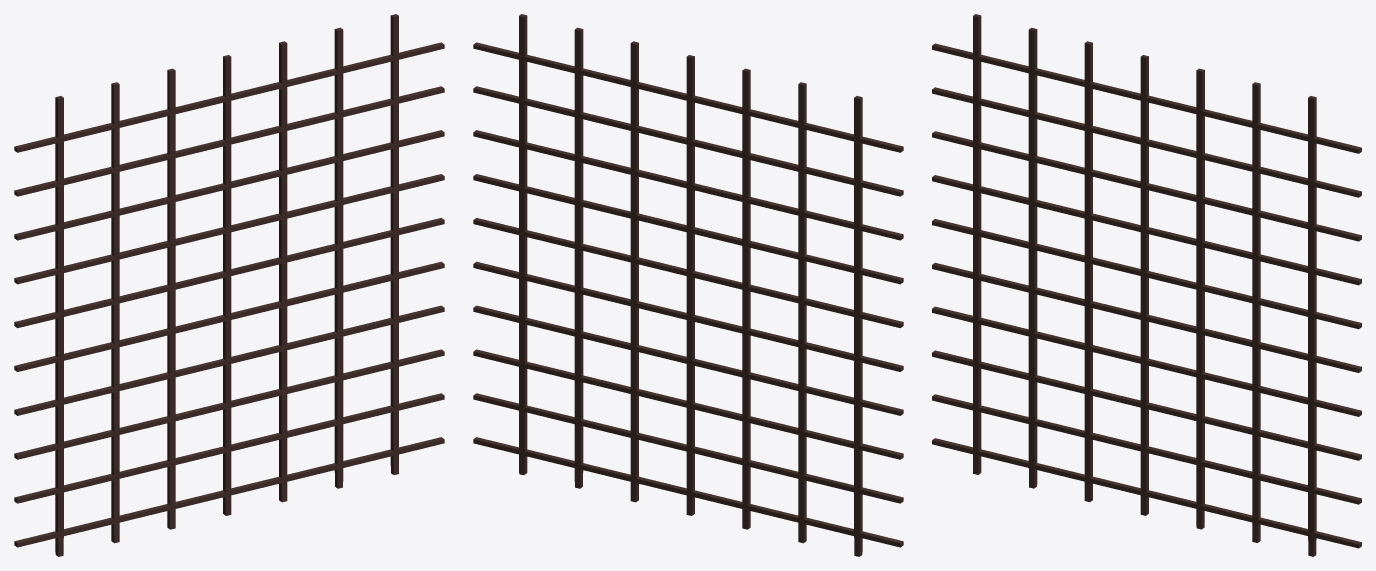
The model's file is Wall-Arch-Bars.fbx.
3 renders of one model, left to right at view 1: azimuth 30°, elevation 25°; view 2: azimuth 150°, elevation 25°; view 3: azimuth 330°, elevation 25°, orthographic.
Parts seen in each view (by area): view 1: Arch_bars; view 2: Arch_bars; view 3: Arch_bars.
Part boxes in pixels (box(x1,y1,x2,y2)): Arch_bars: box(14, 14, 444, 556); Arch_bars: box(473, 14, 903, 556); Arch_bars: box(932, 14, 1361, 556).
Bounding box in the file's own units: 496 × 508 × 6.07.
